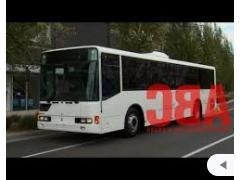bus: (38, 45, 221, 137)
